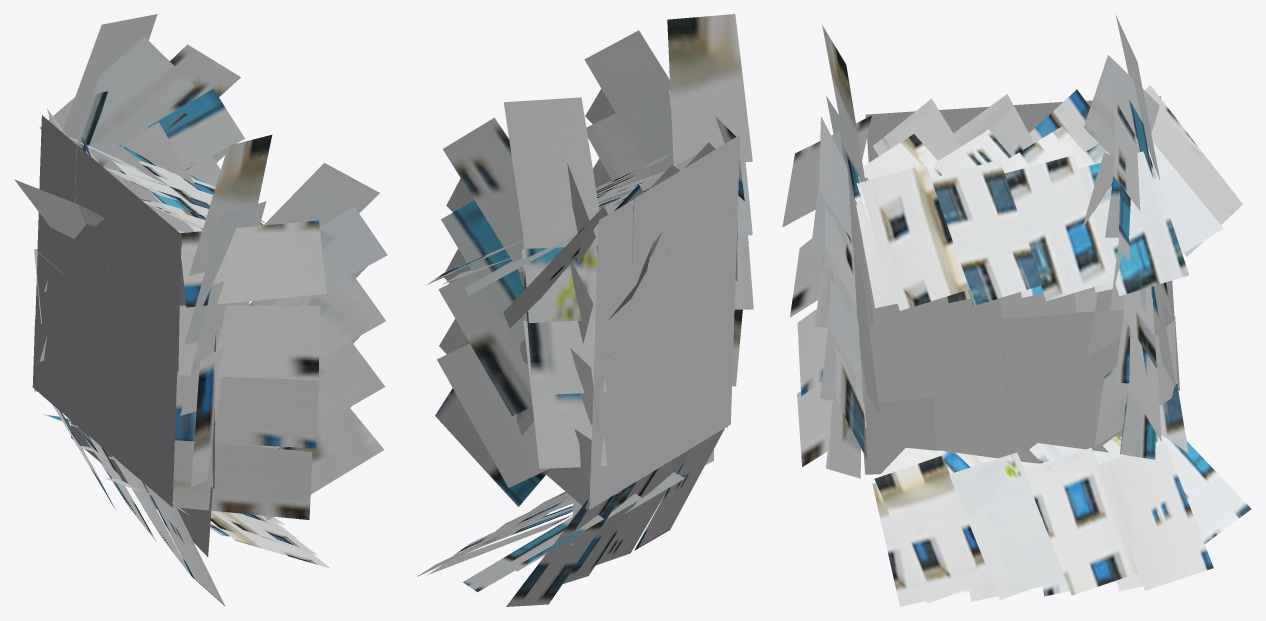
File: finish7.fbx
3 views of the same model, side by side, from view 1: azimuth 30°, elevation 25°; view 2: azimuth 150°, elevation 25°; view 3: azimuth 270°, elevation 25° (orthographic). The views are drawn at different scales.
Parts seen in each view (by area): view 1: Cube_006; view 2: Cube_006; view 3: Cube_006.
Boxes of the visible parts, x1,y1,x2,y2 form: Cube_006: (14,14,387,606); Cube_006: (417,14,753,606); Cube_006: (782,15,1251,606).
Bounding box in the file's own units: 3.46 × 7.61 × 6.03.
